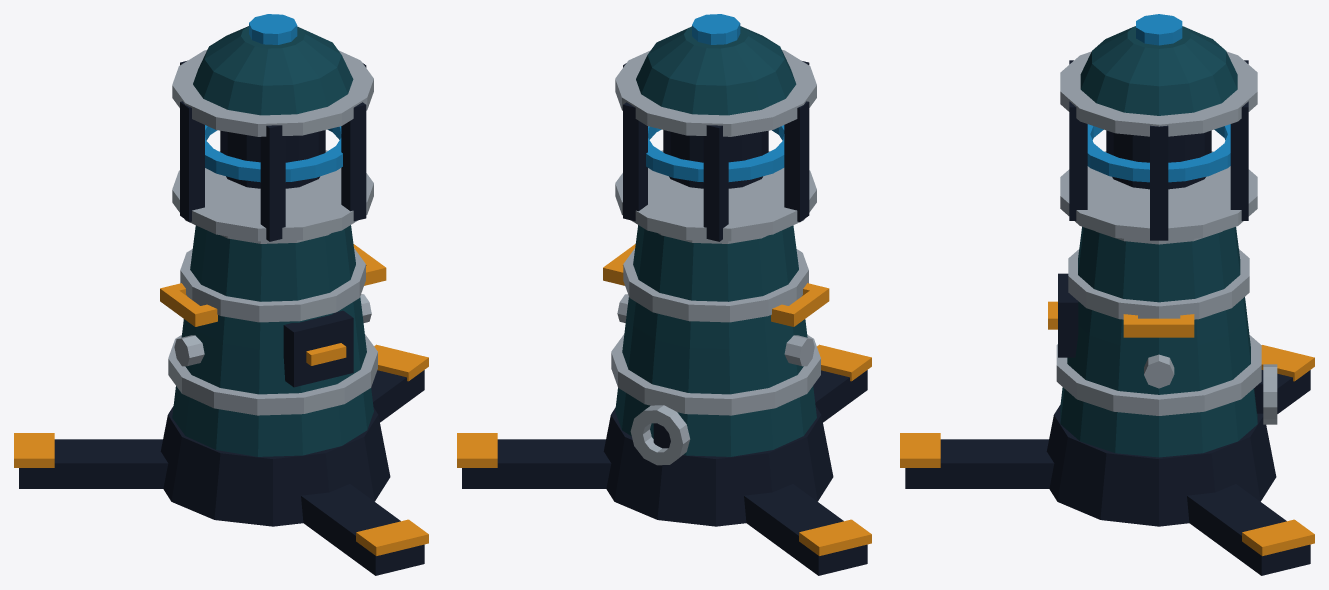
The picture shows the model from 3 angles, left to right: view 1: azimuth 30°, elevation 25°; view 2: azimuth 150°, elevation 25°; view 3: azimuth 270°, elevation 25°; orthographic projection.
Visible parts, largest first — view 1: DL003_DiveBeacon_graphite_navy, DL003_DiveBeacon_teal_shell, DL003_DiveBeacon_titanium, DL003_DiveBeacon_amber_accent, DL003_DiveBeacon_emissive_cyan; view 2: DL003_DiveBeacon_teal_shell, DL003_DiveBeacon_graphite_navy, DL003_DiveBeacon_titanium, DL003_DiveBeacon_amber_accent, DL003_DiveBeacon_emissive_cyan; view 3: DL003_DiveBeacon_teal_shell, DL003_DiveBeacon_graphite_navy, DL003_DiveBeacon_titanium, DL003_DiveBeacon_amber_accent, DL003_DiveBeacon_emissive_cyan.
Part boxes in pixels (<box>): DL003_DiveBeacon_graphite_navy: <box>19,60,424,575</box>; DL003_DiveBeacon_teal_shell: <box>172,26,373,456</box>; DL003_DiveBeacon_titanium: <box>168,50,377,415</box>; DL003_DiveBeacon_amber_accent: <box>14,244,428,555</box>; DL003_DiveBeacon_emissive_cyan: <box>205,14,342,182</box>; DL003_DiveBeacon_teal_shell: <box>615,26,816,456</box>; DL003_DiveBeacon_graphite_navy: <box>462,61,867,575</box>; DL003_DiveBeacon_titanium: <box>611,50,820,465</box>; DL003_DiveBeacon_amber_accent: <box>457,244,871,555</box>; DL003_DiveBeacon_emissive_cyan: <box>646,14,784,181</box>; DL003_DiveBeacon_teal_shell: <box>1060,26,1257,457</box>; DL003_DiveBeacon_graphite_navy: <box>905,60,1310,575</box>; DL003_DiveBeacon_titanium: <box>1056,51,1277,424</box>; DL003_DiveBeacon_amber_accent: <box>900,301,1314,556</box>; DL003_DiveBeacon_emissive_cyan: <box>1087,14,1230,182</box>.
Bounding box in the file's own units: 2.37 × 2.47 × 2.05.
